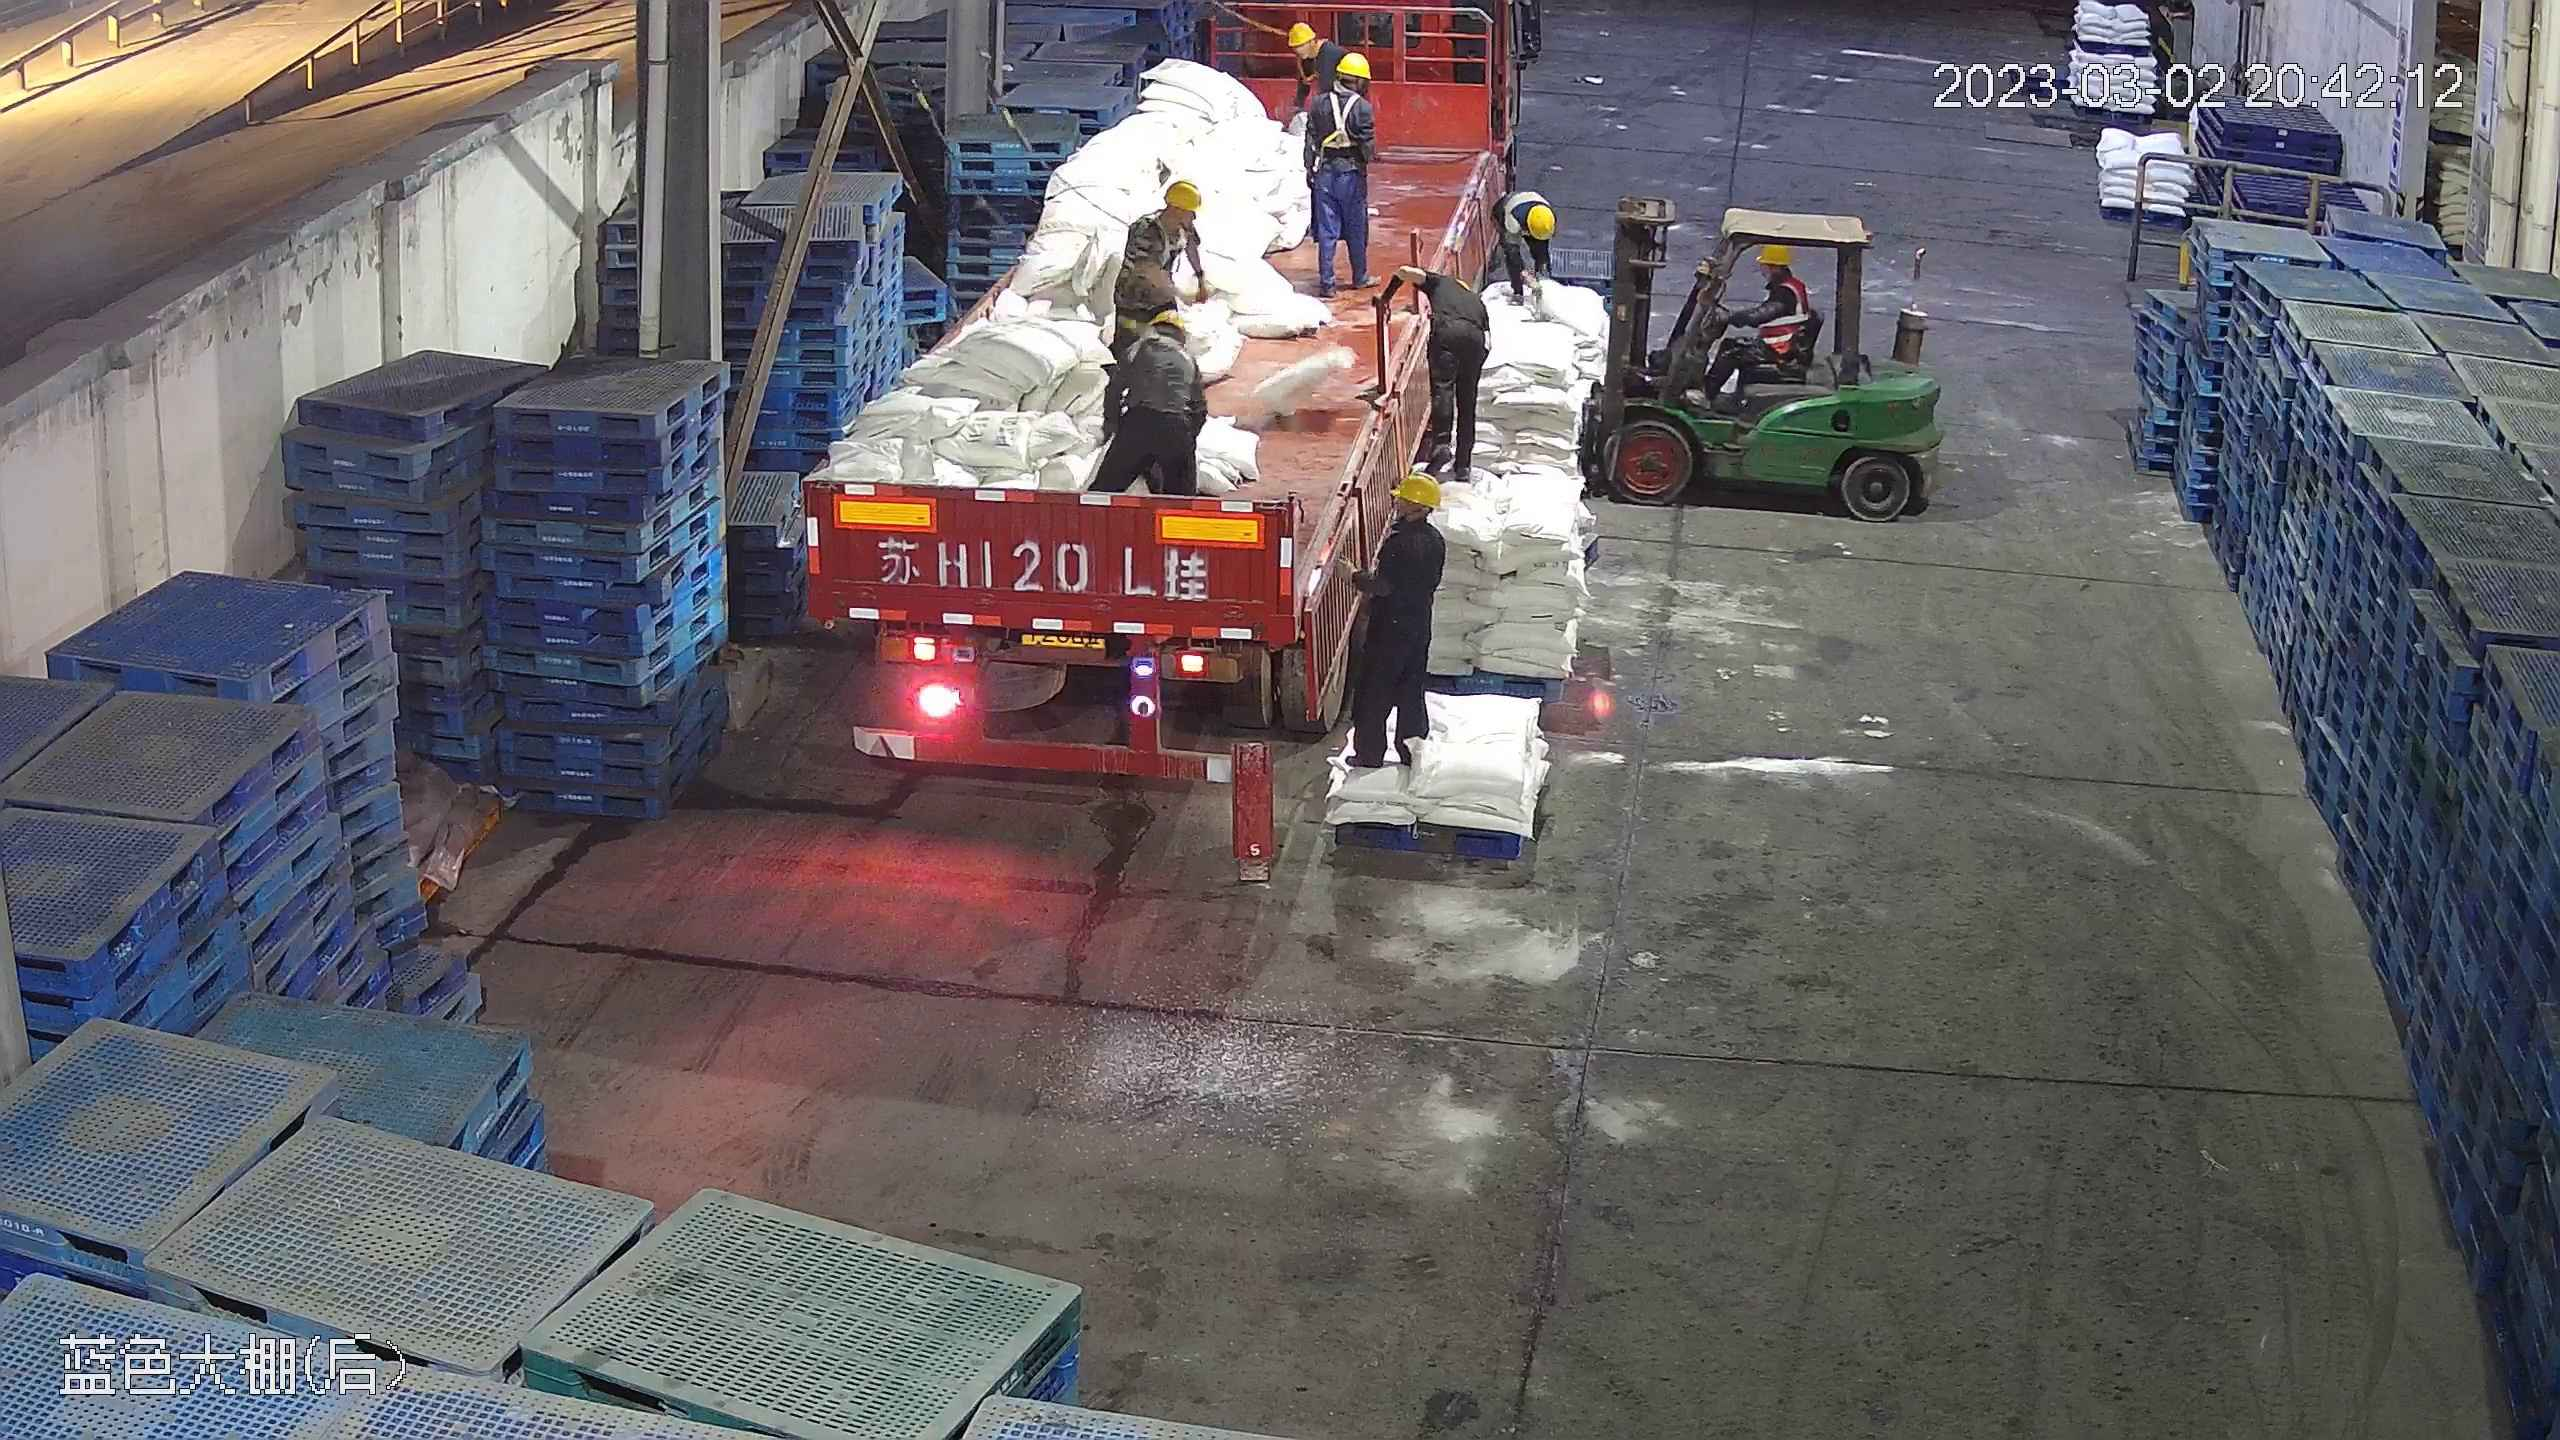belt: (1106, 311, 1190, 379), (1126, 215, 1182, 273), (1318, 92, 1371, 148), (1296, 47, 1324, 86)
head: (1371, 472, 1448, 569), (1127, 177, 1204, 249), (1319, 54, 1378, 123), (1753, 242, 1807, 312), (1284, 20, 1327, 76), (1518, 201, 1555, 242)
helmet: (1390, 472, 1444, 508), (1162, 177, 1204, 212), (1525, 201, 1555, 235), (1150, 307, 1192, 332), (1753, 240, 1794, 264), (1286, 21, 1320, 47)
people: (1336, 468, 1447, 766), (1088, 303, 1212, 496), (1404, 265, 1493, 480), (1302, 47, 1379, 288), (1700, 245, 1808, 412), (1467, 196, 1559, 320)
truck: (801, 17, 1535, 789)
